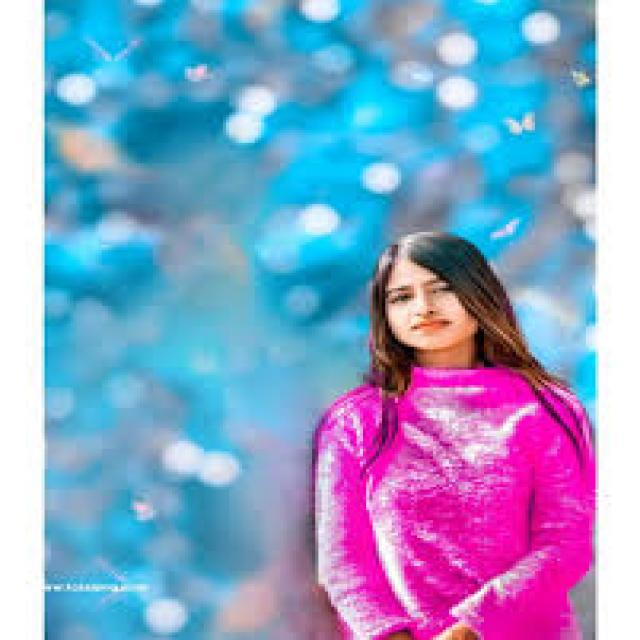Edited images: (264, 204, 621, 640)
